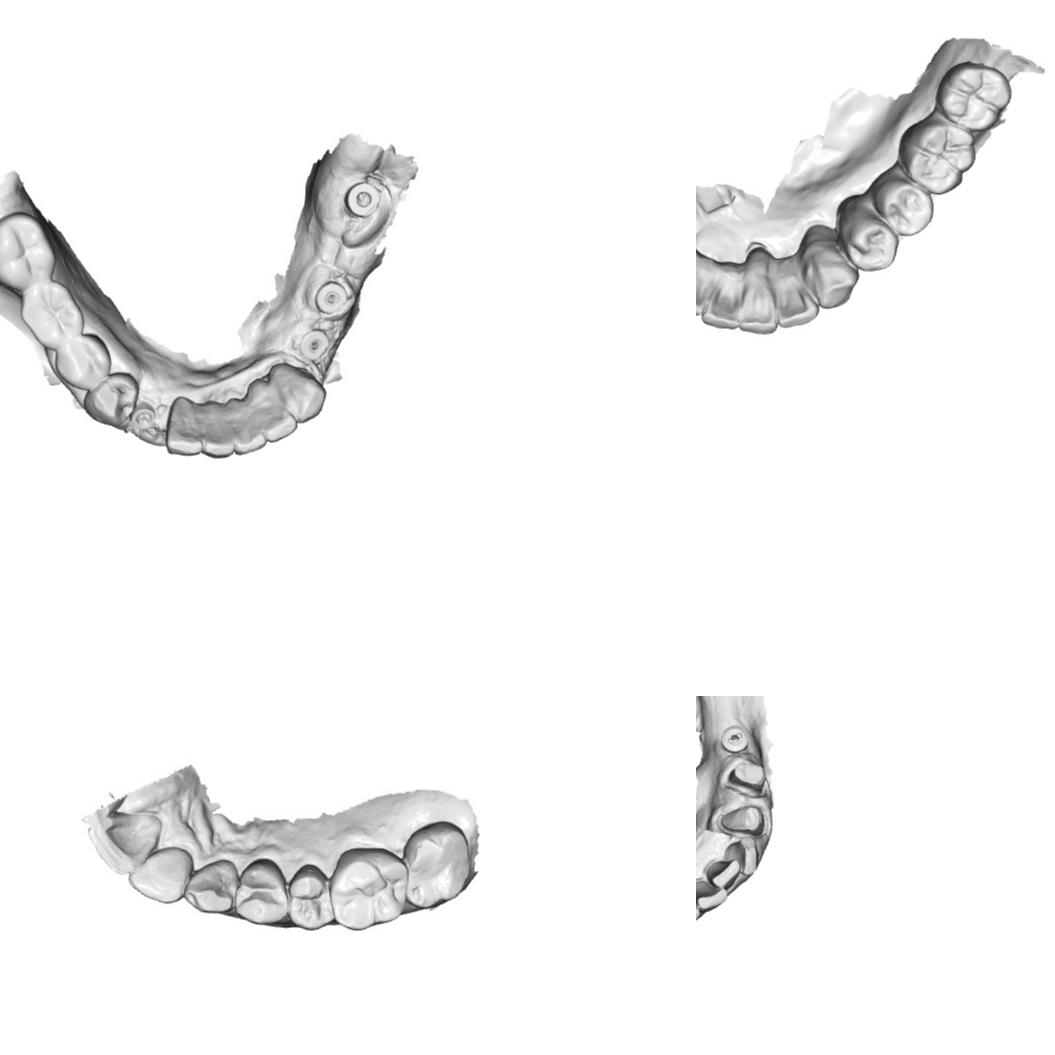canine: (264, 360, 326, 424), (805, 246, 861, 311), (184, 854, 238, 917)
crown: (717, 802, 767, 836), (726, 759, 768, 792)
implant: (341, 180, 381, 219), (313, 279, 349, 318), (300, 326, 333, 361), (128, 401, 158, 436)
implant_minus: (719, 724, 752, 754)
incisor: (88, 808, 168, 878), (127, 846, 192, 905), (735, 262, 779, 336), (769, 270, 818, 329), (700, 268, 744, 332), (197, 396, 239, 458), (162, 396, 204, 457), (250, 399, 298, 443), (232, 401, 267, 455), (721, 836, 759, 877), (704, 858, 743, 892), (696, 261, 717, 319), (696, 877, 727, 911)
molar: (399, 818, 474, 912), (328, 846, 409, 932), (897, 120, 976, 196), (932, 60, 1013, 133), (0, 210, 59, 294), (19, 279, 85, 354)
premolar: (873, 176, 936, 238), (232, 856, 287, 927), (839, 213, 900, 275), (283, 862, 336, 932), (81, 371, 142, 431), (52, 333, 112, 393)
